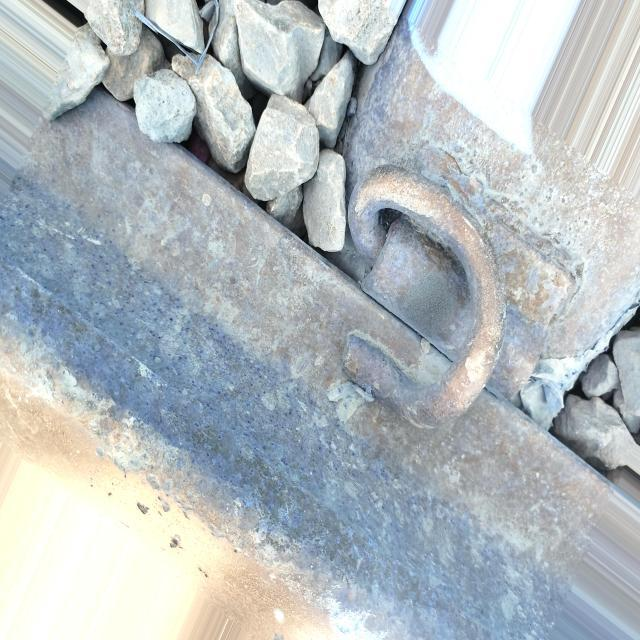Good Fasteners: (303, 110, 507, 429)
